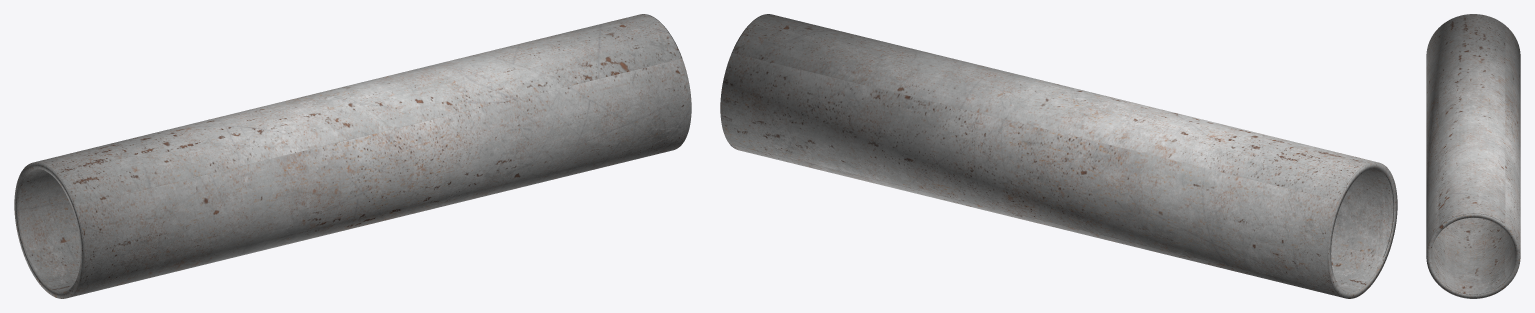
The model's file is 2.metal düz boru.fbx.
The picture shows the model from 3 angles, left to right: view 1: azimuth 30°, elevation 25°; view 2: azimuth 150°, elevation 25°; view 3: azimuth 270°, elevation 25°; orthographic projection. The views are drawn at different scales.
Parts seen in each view (by area): view 1: Plane; view 2: Plane; view 3: Plane.
Boxes of the visible parts, left/top/right/bottom form: Plane: left=14, top=14, right=691, bottom=298; Plane: left=720, top=14, right=1397, bottom=298; Plane: left=1426, top=14, right=1520, bottom=298.
Bounding box in the file's own units: 501 × 100 × 100.
